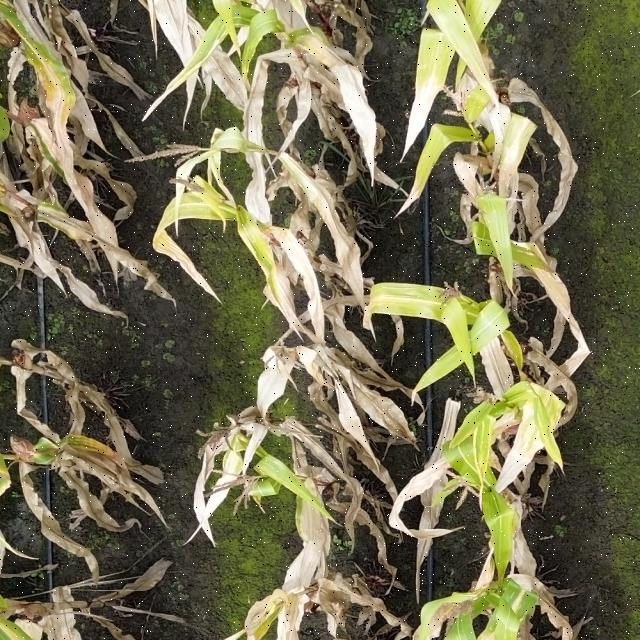northern-leaf-blight: (139, 192, 217, 310)
